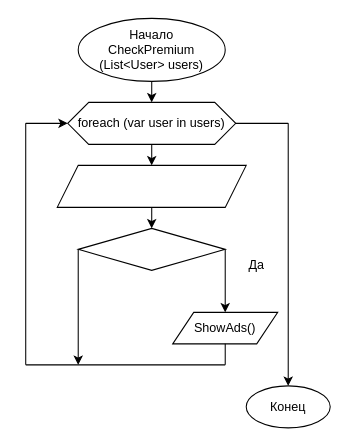
This 349x446 diagram has some shape labels left out. Here are the shapes that lost their labels. From the top down, the centre of each, then its label:
(x=151, y=185): вывести $"Приветствуем, {user.Name}!"
(x=151, y=248): !user.IsPremium
